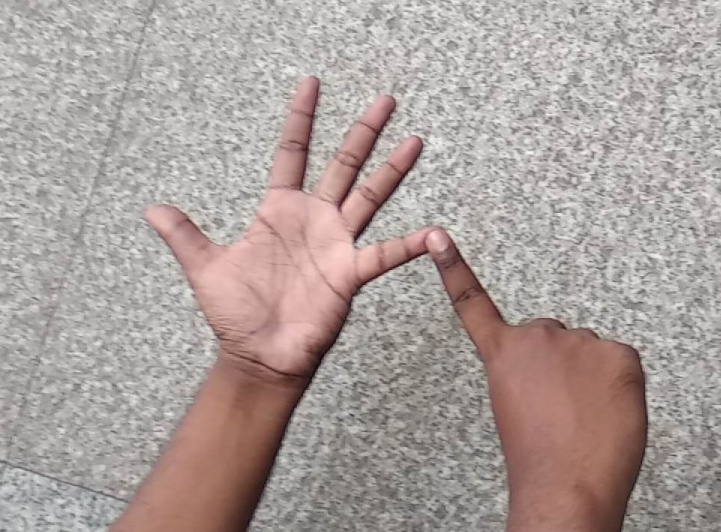i: (152, 68, 538, 403)
